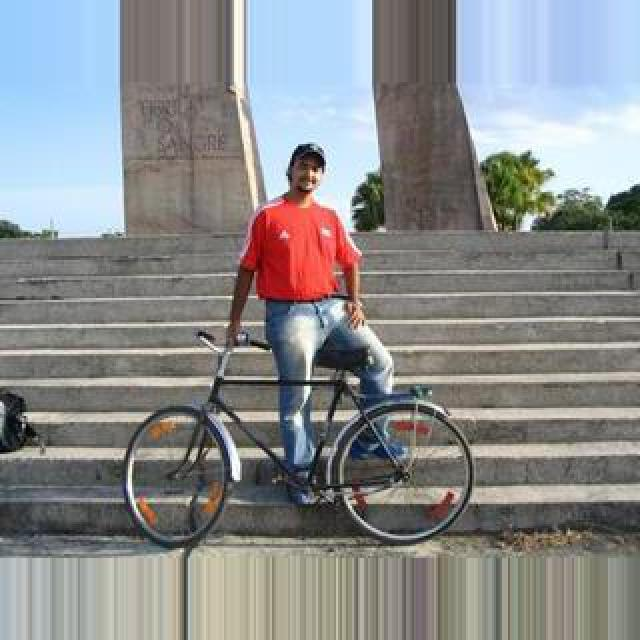MC-Bike: (226, 144, 392, 518)
Person: (122, 328, 470, 548)
